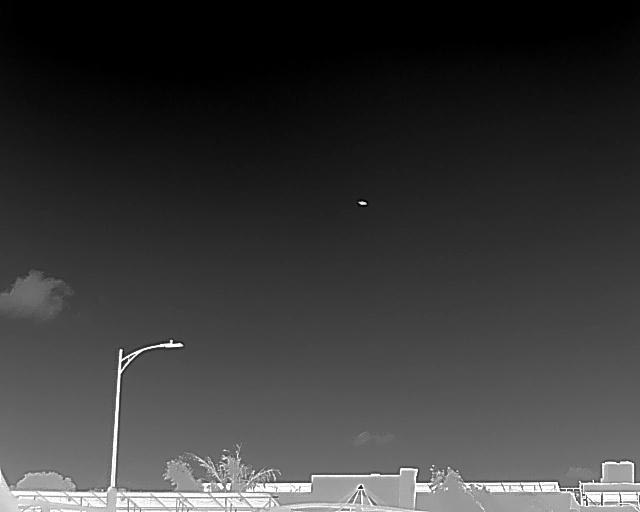fpv-drone: (357, 200, 368, 206)
